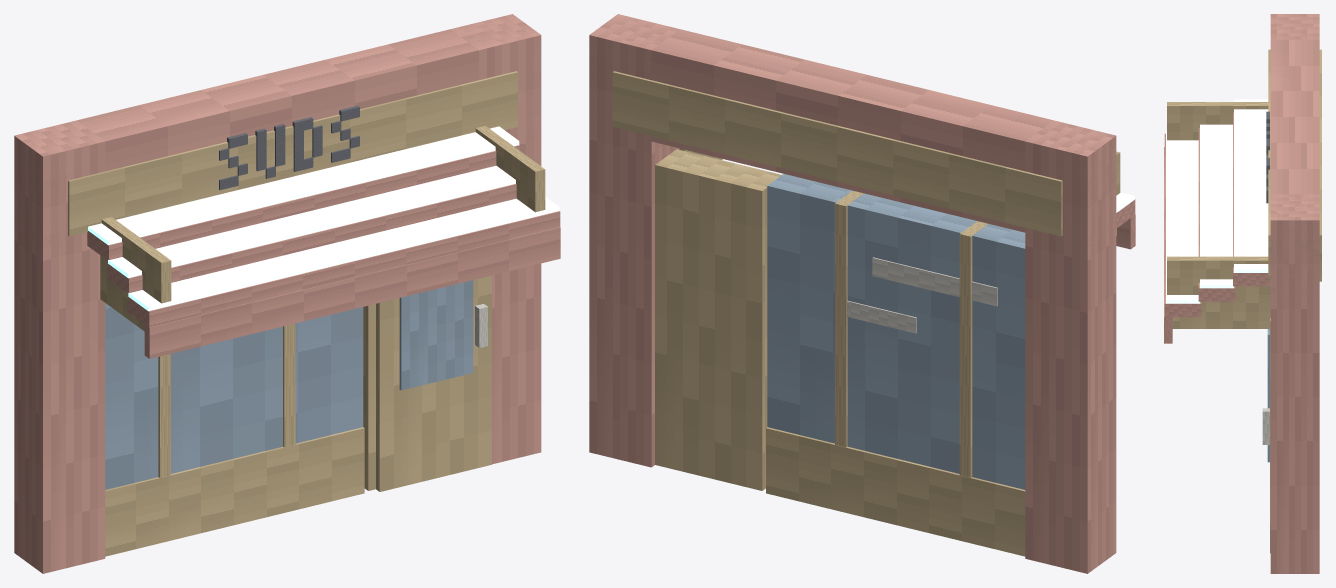
The model's file is pixel-modern-city-street-shopfront-bay-laundrette-cc0d0065__29003.glb.
The picture shows the model from 3 angles, left to right: view 1: azimuth 30°, elevation 25°; view 2: azimuth 150°, elevation 25°; view 3: azimuth 270°, elevation 25°; orthographic projection. The views are drawn at different scales.
Parts seen in each view (by area): view 1: shopfront-bay-laundrette, door-shop/oak, door-shop/slate; view 2: shopfront-bay-laundrette; view 3: shopfront-bay-laundrette, door-shop/bone, door-shop/slate, door-shop/oak.
Part boxes in pixels (x1,y1,x2,y2): shopfront-bay-laundrette: (14,14,560,573); door-shop/oak: (376,275,491,491); door-shop/slate: (399,280,473,390); shopfront-bay-laundrette: (589,14,1135,573); shopfront-bay-laundrette: (1164,14,1321,573); door-shop/bone: (1262,408,1269,444); door-shop/slate: (1267,329,1269,462); door-shop/oak: (1270,318,1270,553).
Bounding box in the file's own units: 4 × 3.2 × 1.3.
Materials: 6 (6 with a texture image).
